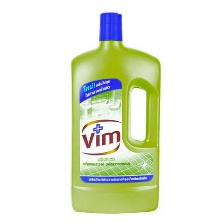cleaning_solution: (67, 9, 164, 217)
